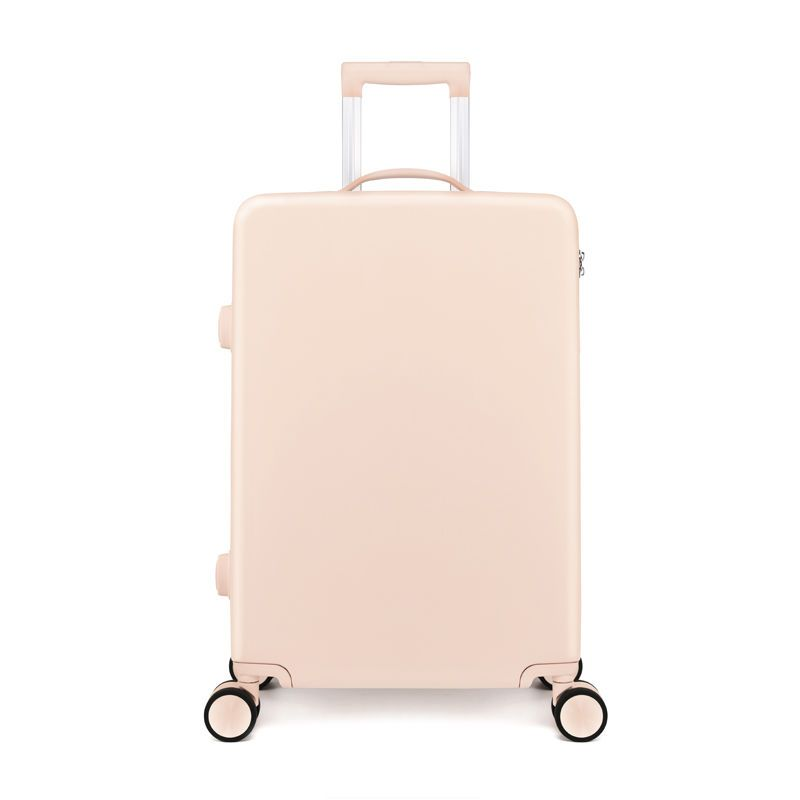box: (229, 192, 581, 691)
handle: (337, 169, 470, 191)
wheel: (552, 679, 608, 742), (202, 686, 262, 742)
